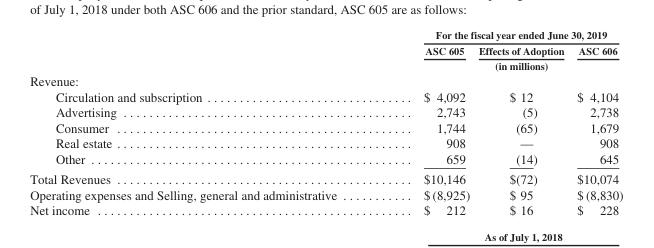table: (29, 28, 622, 217)
table column: (29, 28, 379, 217), (473, 28, 569, 217), (379, 28, 473, 217), (569, 28, 622, 217)
table column header: (29, 28, 622, 72)
table projected row header: (29, 72, 622, 88)
table row: (29, 150, 622, 168), (29, 168, 622, 186), (29, 42, 622, 58), (29, 72, 622, 88), (29, 103, 622, 119), (29, 134, 622, 150), (29, 186, 622, 202), (29, 88, 622, 103), (29, 119, 622, 134), (29, 202, 622, 217), (29, 28, 622, 42), (29, 58, 622, 72)
table spanning cell: (379, 28, 622, 42), (379, 58, 622, 72)
